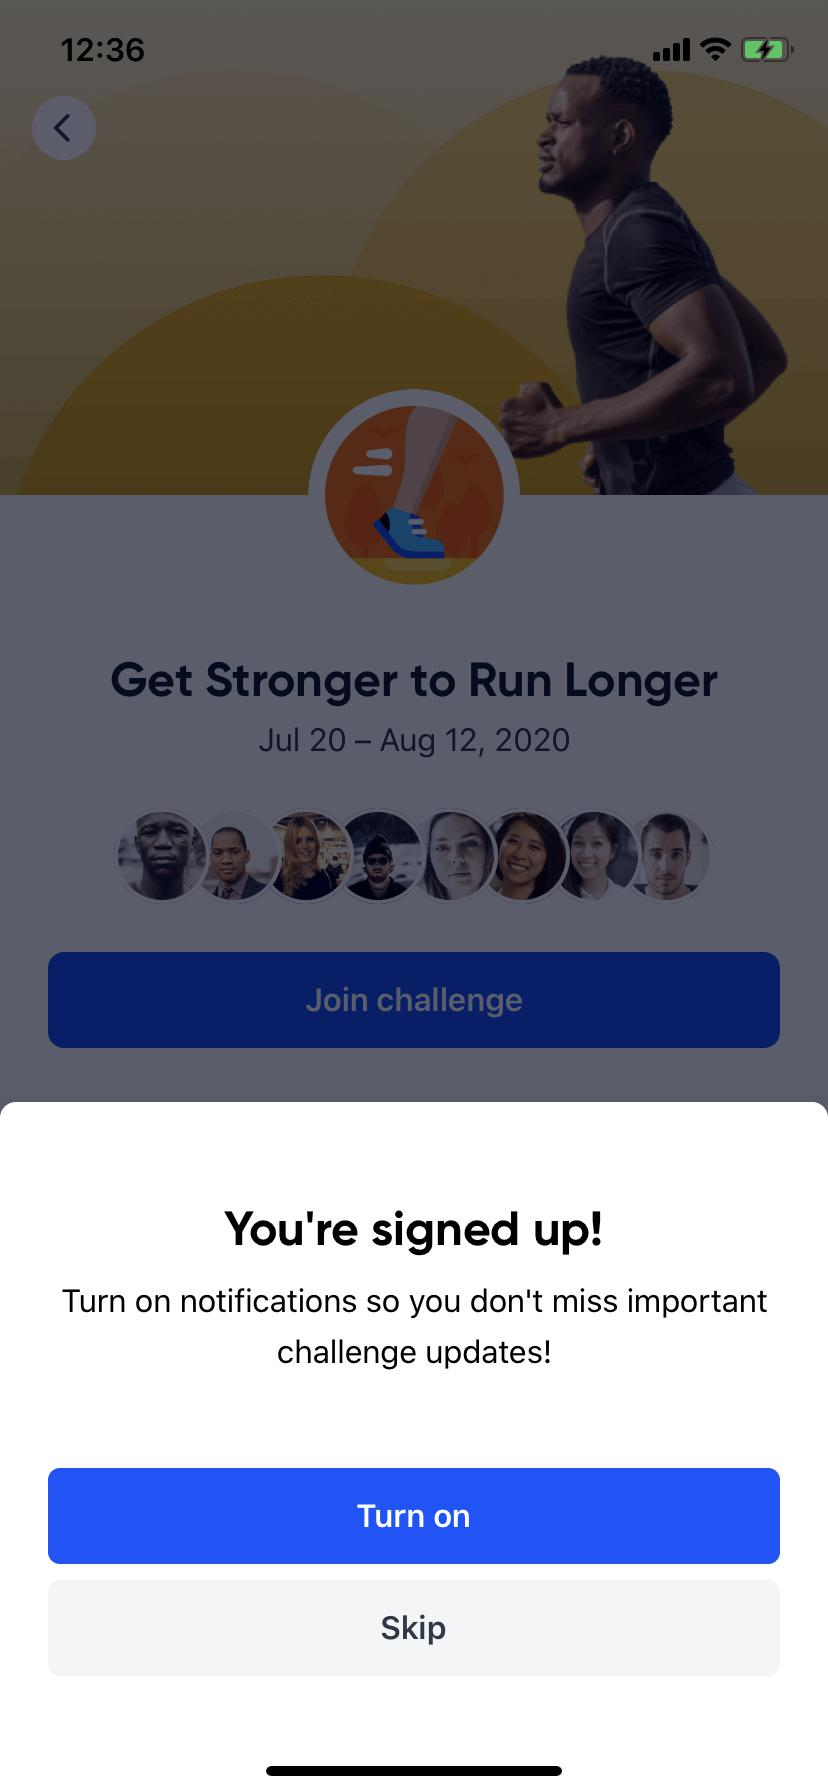Buttons: (42, 1449, 786, 1568), (35, 942, 785, 1051), (43, 1578, 783, 1685), (26, 90, 102, 171)
